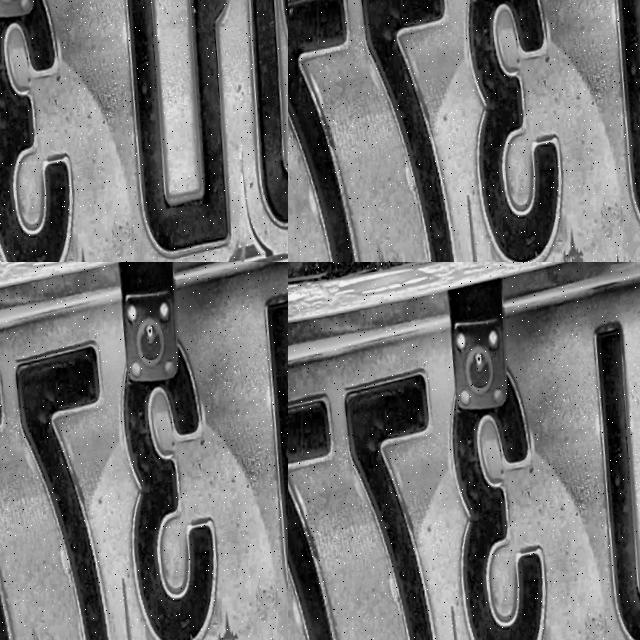license-plate: (288, 262, 640, 640), (337, 0, 640, 236)
